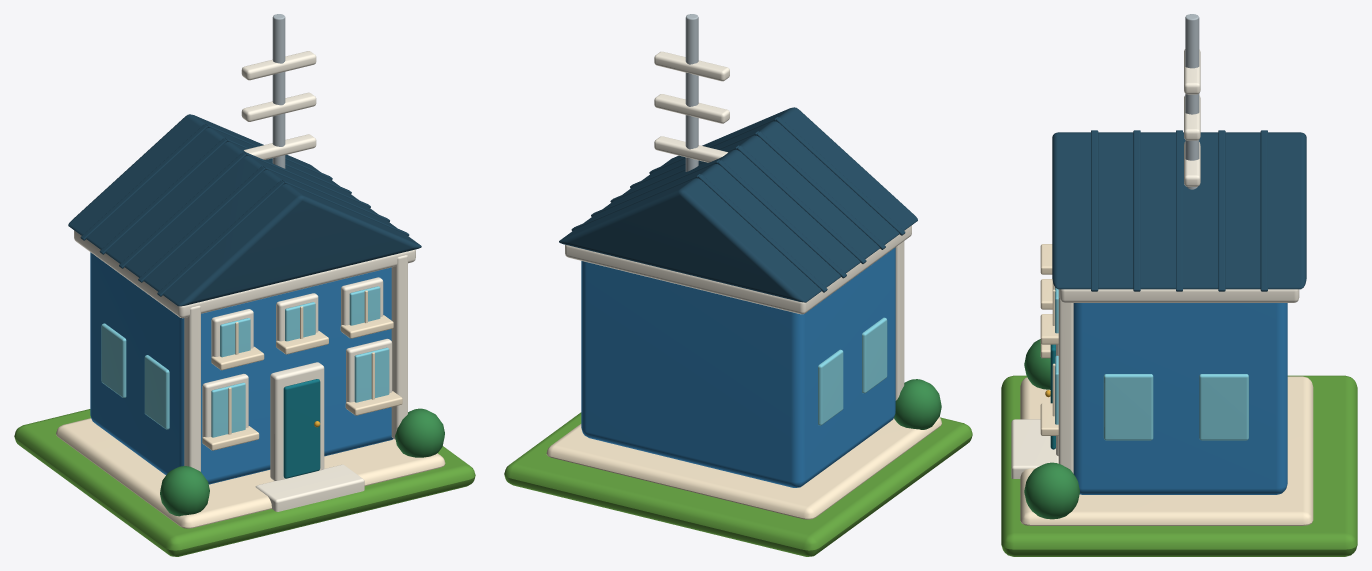
Rendered from telecom.fbx.
The picture shows the model from 3 angles, left to right: view 1: azimuth 30°, elevation 25°; view 2: azimuth 150°, elevation 25°; view 3: azimuth 270°, elevation 25°; orthographic projection. The views are drawn at different scales.
Visible parts, largest first — view 1: Roof.003, Plaster facade.003, Raised garden plot.003, Paved foundation.003, Cornice.003, Entrance.003, Entrance step.003, Corner trim.006, Door frame.003, Corner trim.007, Clipped shrub.006, Clipped shrub.007 (+26 smaller); view 2: Plaster facade.003, Roof.003, Raised garden plot.003, Paved foundation.003, Cornice.003, Clipped shrub.006, Radio mast, Side window.013, Side window.012, Corner trim.006, Antenna panel.002, Antenna panel.001 (+6 smaller); view 3: Plaster facade.003, Roof.003, Raised garden plot.003, Paved foundation.003, Side window.014, Side window.015, Cornice.003, Corner trim.007, Clipped shrub.007, Entrance step.003, Radio mast, Roof seam.035 (+10 smaller).
Boxes of the visible parts, <box> form: Roof.003: <box>68,114,421,306</box>; Plaster facade.003: <box>90,252,393,484</box>; Raised garden plot.003: <box>14,409,475,556</box>; Paved foundation.003: <box>56,418,445,528</box>; Cornice.003: <box>74,230,415,318</box>; Entrance.003: <box>283,379,320,478</box>; Entrance step.003: <box>255,464,364,511</box>; Corner trim.006: <box>184,305,200,471</box>; Door frame.003: <box>270,362,324,480</box>; Corner trim.007: <box>391,255,407,439</box>; Clipped shrub.006: <box>160,466,209,516</box>; Clipped shrub.007: <box>395,408,444,457</box>; Plaster facade.003: <box>581,247,895,487</box>; Roof.003: <box>559,107,917,302</box>; Raised garden plot.003: <box>504,412,972,556</box>; Paved foundation.003: <box>546,417,941,519</box>; Cornice.003: <box>565,225,911,314</box>; Clipped shrub.006: <box>894,379,941,429</box>; Radio mast: <box>685,14,698,171</box>; Side window.013: <box>818,349,843,425</box>; Side window.012: <box>862,317,887,393</box>; Corner trim.006: <box>895,241,904,400</box>; Antenna panel.002: <box>654,51,729,81</box>; Antenna panel.001: <box>654,94,729,123</box>; Plaster facade.003: <box>1073,303,1287,494</box>; Roof.003: <box>1052,132,1306,289</box>; Raised garden plot.003: <box>1001,375,1357,556</box>; Paved foundation.003: <box>1020,376,1313,525</box>; Side window.014: <box>1103,374,1153,440</box>; Side window.015: <box>1199,374,1248,440</box>; Cornice.003: <box>1059,289,1299,302</box>; Corner trim.007: <box>1058,289,1073,473</box>; Clipped shrub.007: <box>1024,462,1079,519</box>; Entrance step.003: <box>1011,419,1058,478</box>; Radio mast: <box>1185,14,1199,189</box>; Roof seam.035: <box>1091,131,1098,291</box>.
Bounding box in the file's own units: 3.1 × 4.18 × 2.8.
